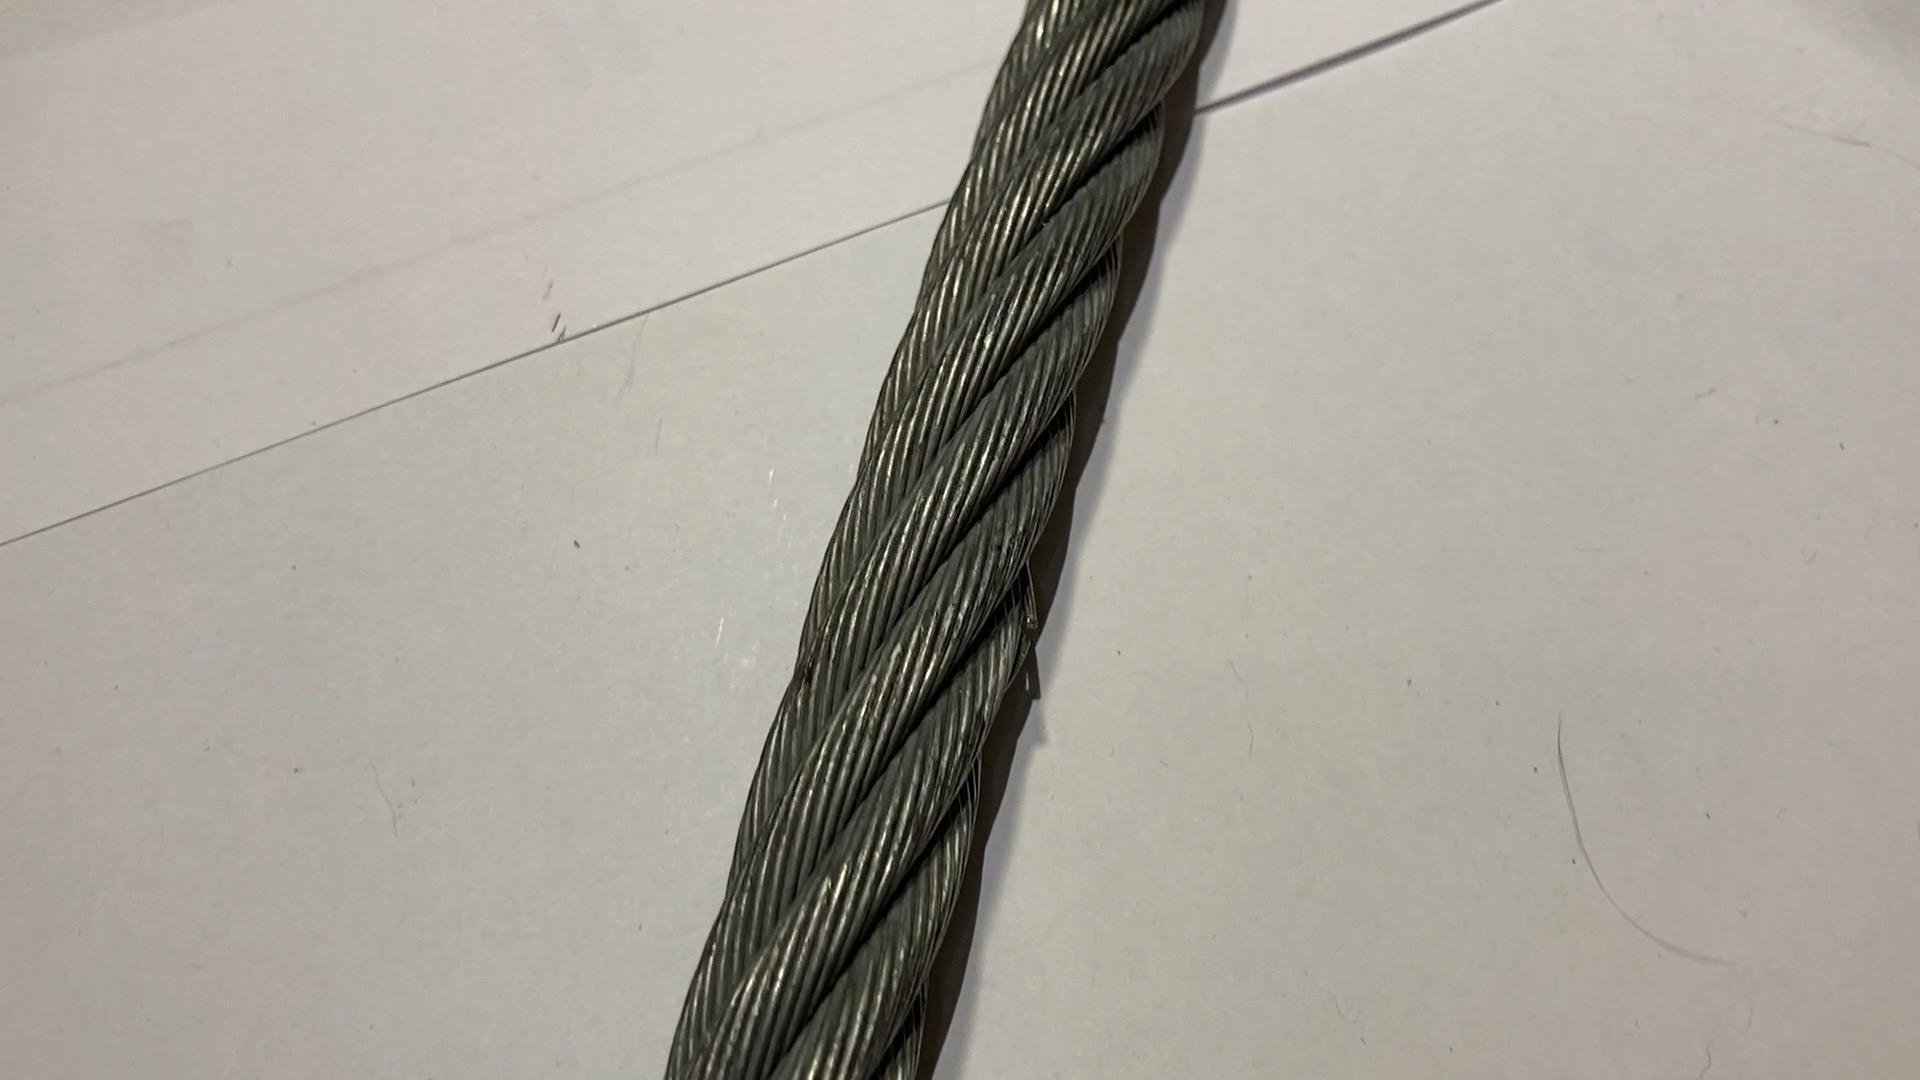break: (1011, 596, 1047, 662)
